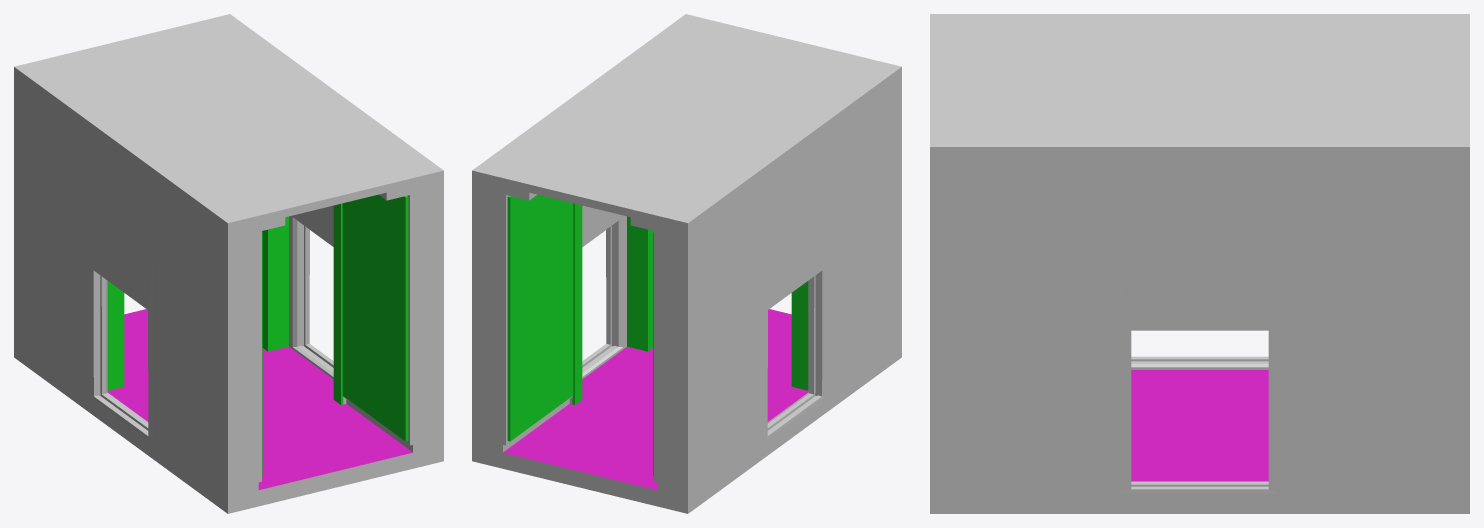
The model's file is hallway_003.fbx.
The picture shows the model from 3 angles, left to right: view 1: azimuth 30°, elevation 25°; view 2: azimuth 150°, elevation 25°; view 3: azimuth 270°, elevation 25°; orthographic projection. The views are drawn at different scales.
Visible parts, largest first — view 1: Cube.002; view 2: Cube.002; view 3: Cube.002.
Part boxes in pixels (bbox=[...]): Cube.002: bbox=[14, 14, 443, 513]; Cube.002: bbox=[472, 14, 901, 513]; Cube.002: bbox=[930, 14, 1469, 513].
Size of the model in its own units: 700 by 900 by 1200.
